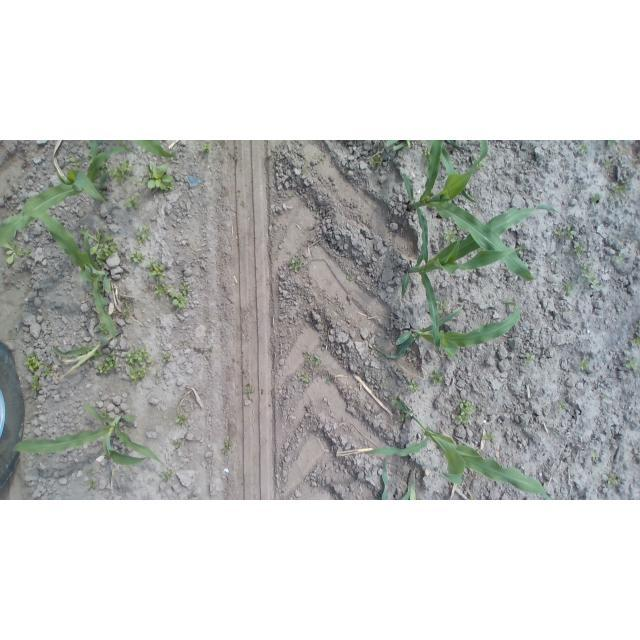Maize: (402, 204, 562, 348), (365, 397, 554, 500), (403, 140, 535, 282), (0, 146, 148, 247), (20, 209, 116, 352), (13, 400, 162, 466), (368, 301, 521, 360), (54, 328, 125, 381), (427, 141, 478, 204), (133, 140, 176, 158), (400, 468, 417, 501), (380, 455, 390, 500), (386, 141, 412, 152), (90, 140, 98, 162), (446, 141, 465, 148)
Weeds: (126, 346, 155, 386), (153, 280, 190, 308), (145, 162, 176, 191), (96, 235, 118, 267), (31, 360, 52, 392), (108, 159, 136, 183), (81, 227, 104, 256), (453, 397, 475, 426), (581, 263, 602, 293), (95, 354, 119, 375), (145, 260, 167, 281), (5, 241, 24, 264), (136, 224, 153, 249), (303, 351, 323, 368), (25, 351, 40, 373), (554, 227, 576, 242), (290, 257, 307, 274), (570, 242, 586, 259), (429, 368, 443, 385), (221, 436, 232, 457), (562, 277, 577, 292), (129, 250, 146, 263), (132, 175, 147, 189), (591, 193, 605, 208), (605, 472, 619, 487), (123, 196, 139, 209), (626, 354, 639, 370), (300, 371, 312, 388), (613, 182, 628, 195), (409, 379, 421, 394), (371, 154, 383, 169), (444, 229, 457, 242), (161, 469, 174, 482), (437, 300, 448, 315), (176, 413, 189, 424), (579, 358, 590, 371), (629, 333, 640, 345), (556, 400, 567, 412), (524, 352, 534, 365), (484, 431, 497, 441), (70, 156, 82, 166), (97, 322, 107, 334), (123, 302, 130, 319), (88, 478, 97, 491), (424, 146, 430, 165), (202, 141, 212, 152), (579, 142, 589, 153), (323, 375, 333, 386), (172, 438, 181, 450), (244, 384, 252, 397), (608, 140, 621, 148), (589, 450, 600, 459), (615, 252, 623, 264), (162, 352, 171, 362), (518, 245, 527, 255), (602, 157, 610, 167), (314, 154, 322, 163), (181, 339, 190, 347), (600, 394, 608, 403), (26, 249, 32, 260), (86, 468, 95, 475), (102, 408, 109, 417), (300, 169, 308, 176), (347, 274, 354, 280), (470, 494, 477, 500), (392, 395, 397, 403), (401, 414, 406, 422), (344, 140, 350, 146), (385, 375, 392, 380), (103, 191, 108, 198), (118, 140, 125, 144), (636, 318, 640, 325)
